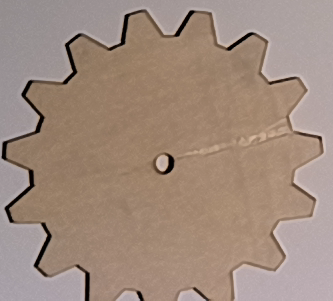Crack: (175, 114, 294, 162)
